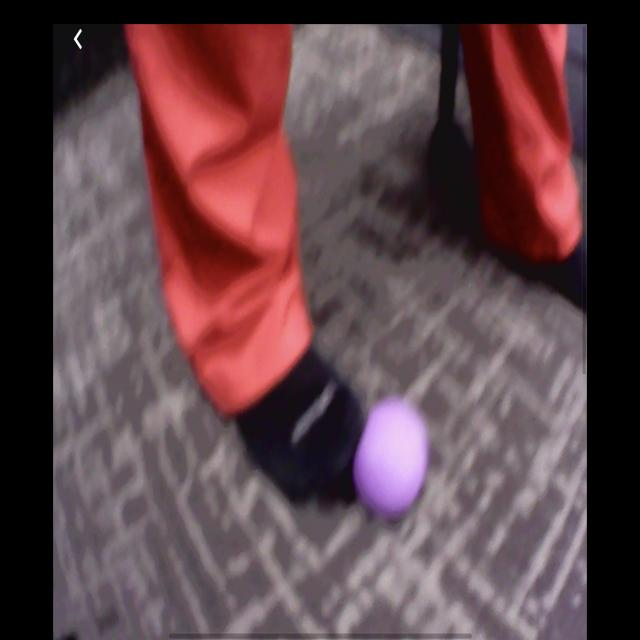ball: (356, 398, 432, 517)
